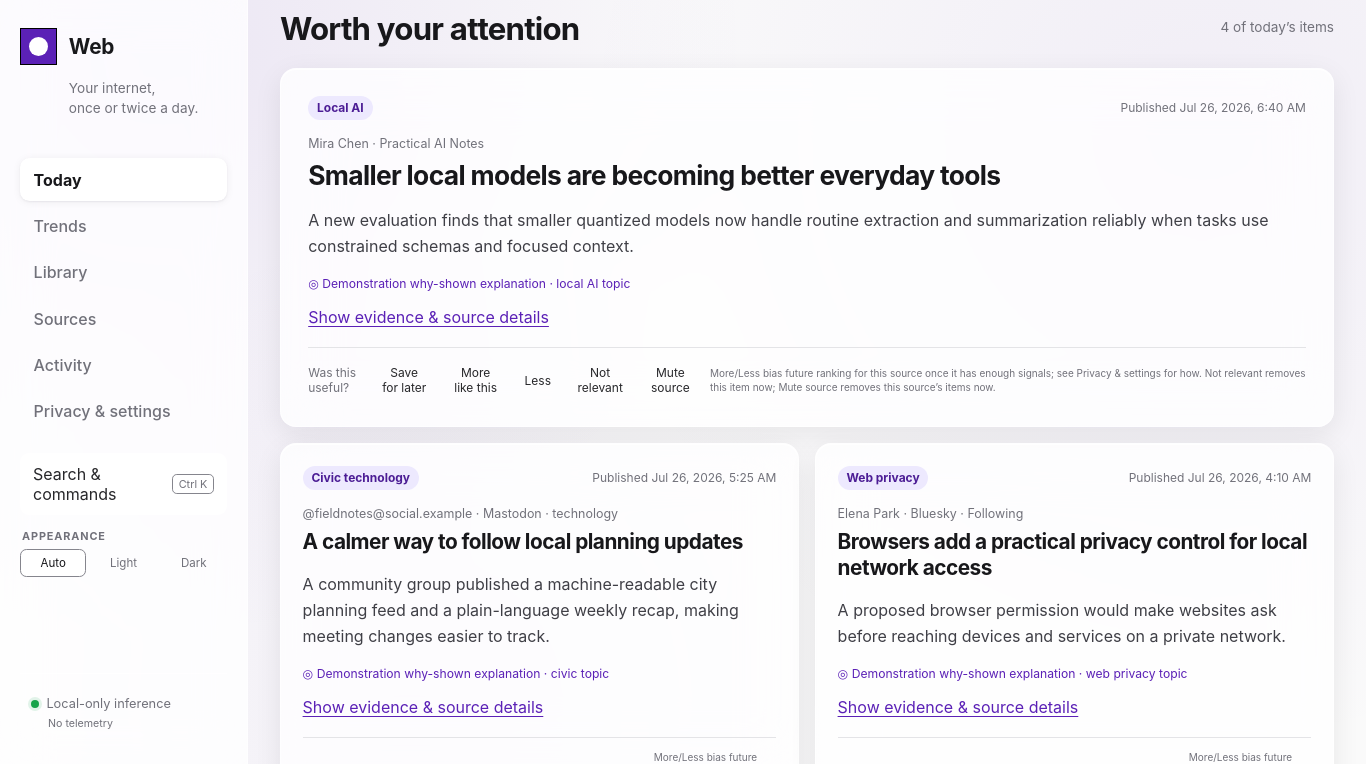
Test: calm dashboard › uses explicit reversible feedback instead of passive behavior
(page scrolled)
Click the button "Not relevant" at (600, 380), box [569,361,631,399]
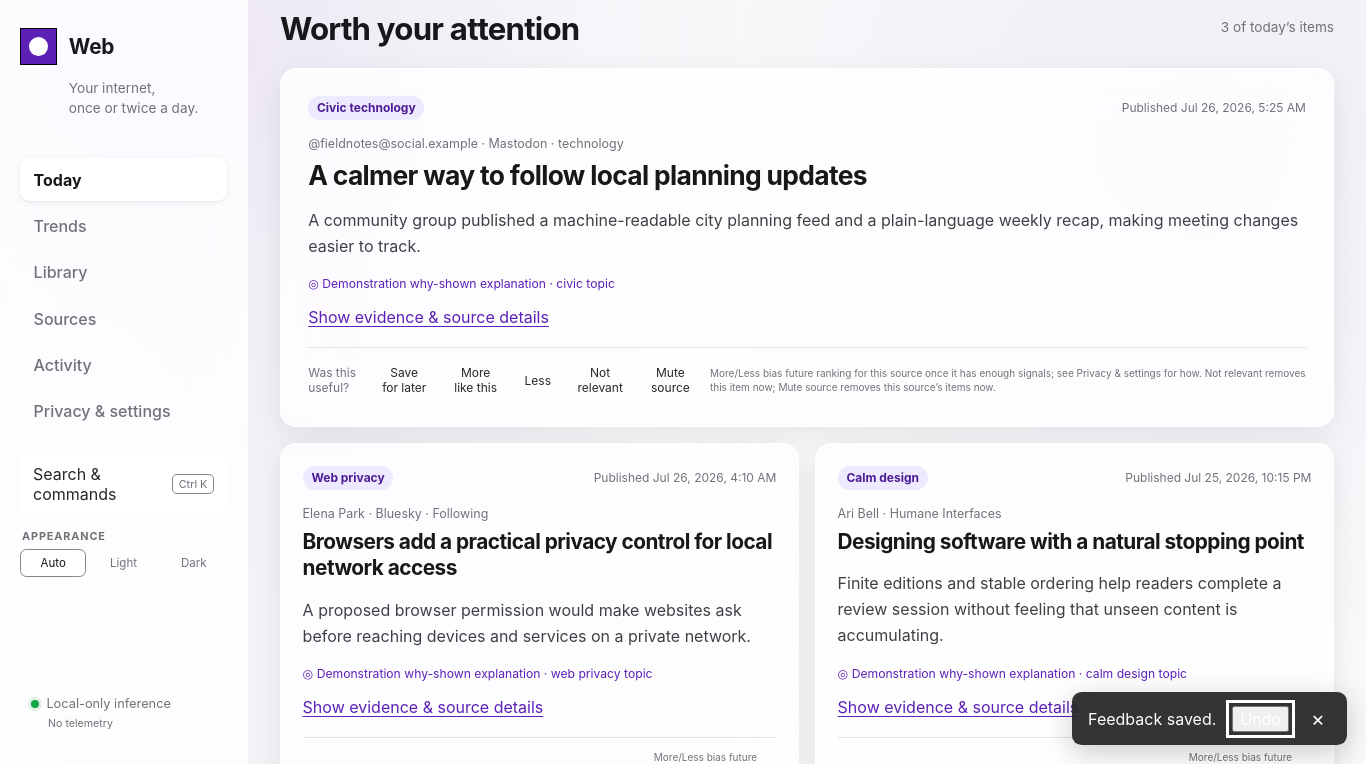
Now the text "Feedback saved." is shown, box [1088,708,1216,728]
Click the button "Undo" at (1261, 718), box [1232,706,1289,732]
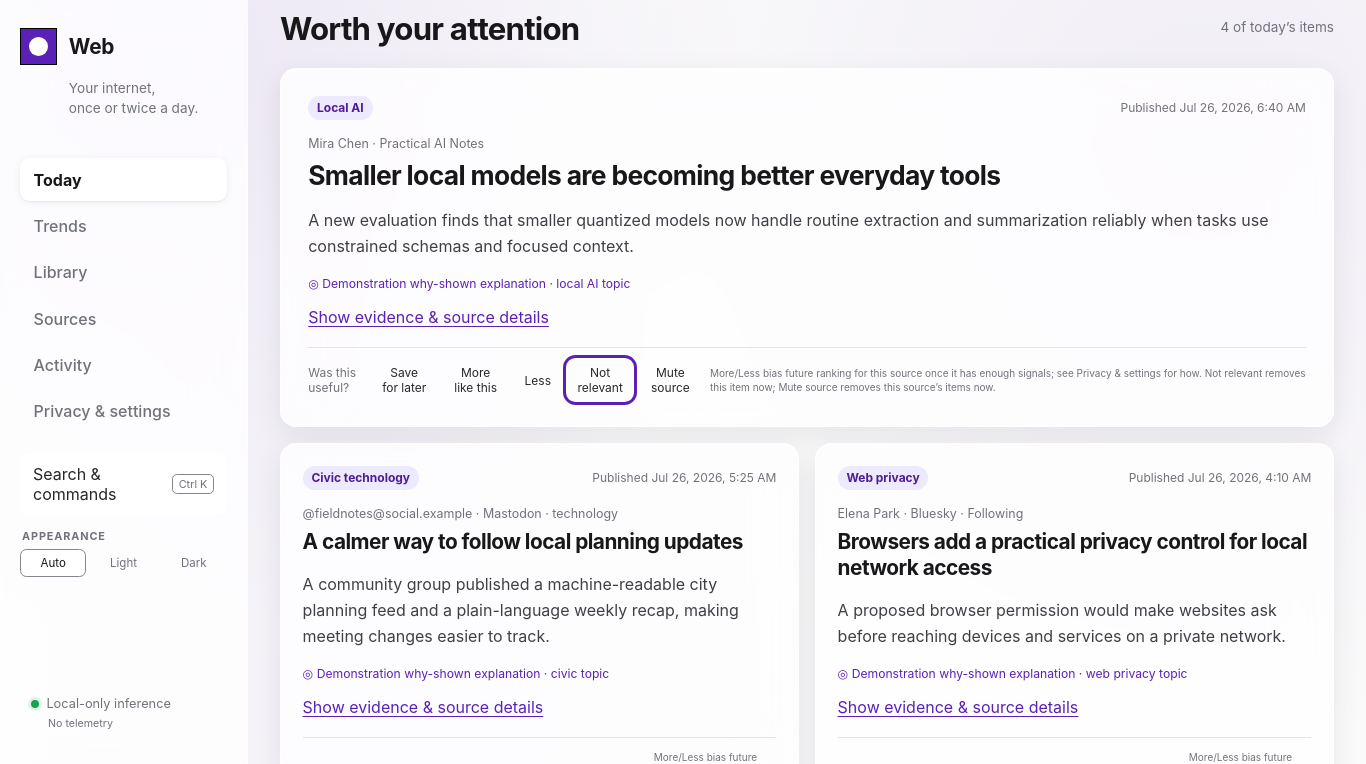
Now the heading "Smaller local models are becoming better everyday tools" is shown, box [308,159,1078,192]
